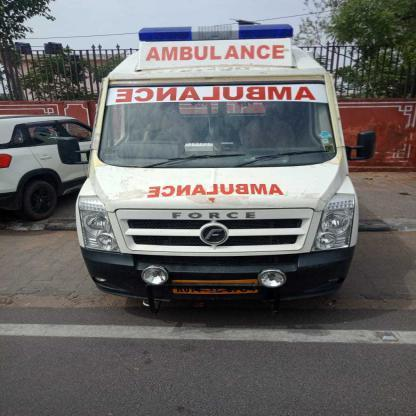Ambulance: (110, 82, 320, 104), (144, 44, 290, 66), (144, 181, 289, 202)
